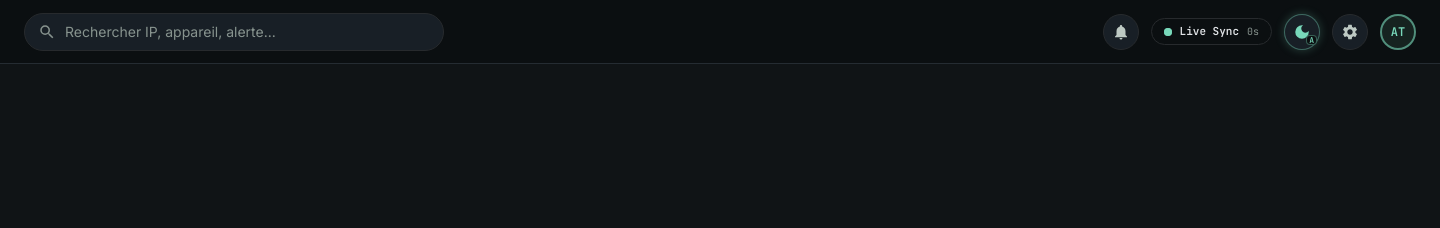
it: Header : notifications réelles › signale clairement un serveur injoignable
The width and height of the screenshot is (1440, 228).
Click the button with id "header-notifications-btn" at (1121,32), box [1103, 14, 1139, 50]
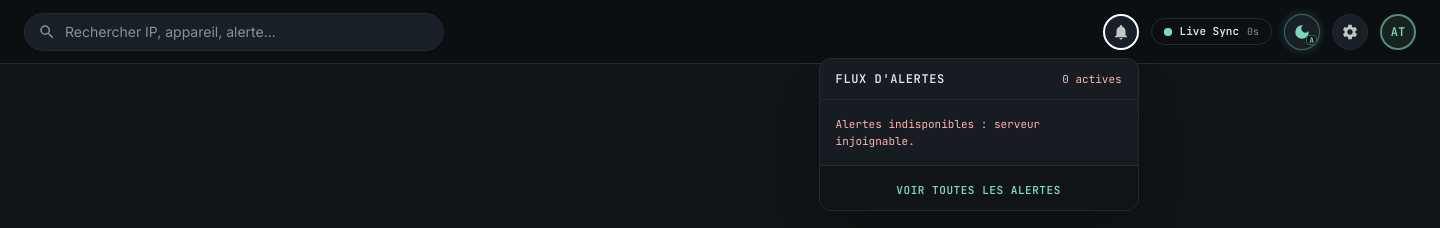
Result: the text "Alertes indisponibles : serveur injoignable." is shown at [836, 117, 1040, 148]
